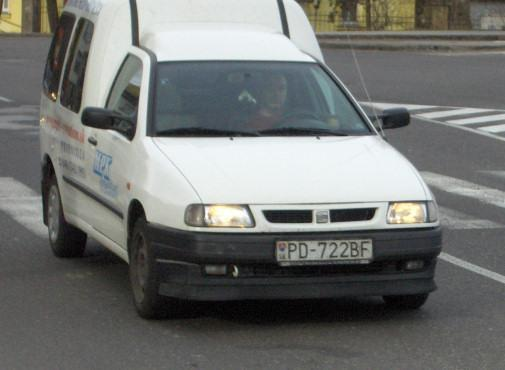placa de veiculo: (266, 229, 380, 271)
